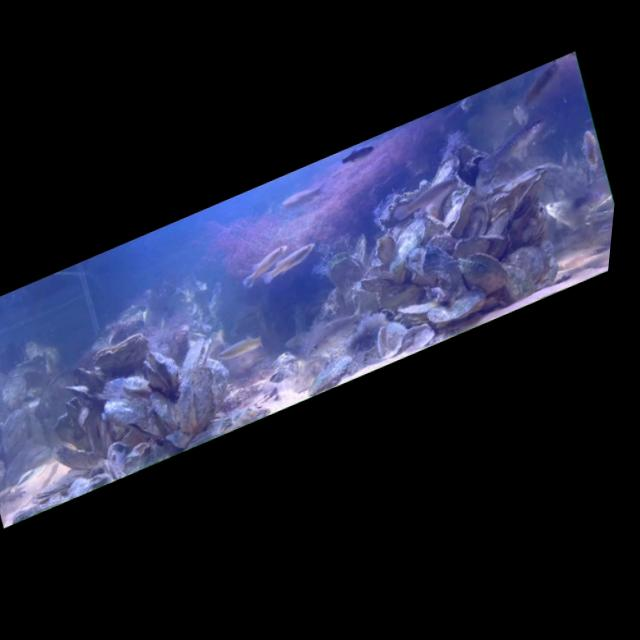Oyster-Closed: (91, 361, 172, 460), (396, 227, 475, 316), (374, 214, 441, 288), (411, 150, 475, 222), (421, 281, 492, 334), (183, 360, 230, 429), (498, 237, 554, 294), (434, 182, 486, 243), (162, 376, 208, 438), (29, 462, 94, 505), (144, 382, 188, 442), (395, 285, 455, 328), (494, 251, 541, 305), (374, 277, 428, 317), (408, 198, 452, 245), (61, 374, 100, 413)
Oyster-Indeterminate: (482, 161, 553, 209), (44, 404, 98, 466), (504, 167, 559, 221), (0, 401, 43, 470), (373, 184, 429, 234), (198, 351, 241, 414), (68, 354, 114, 403), (452, 194, 497, 242), (47, 433, 92, 479), (422, 224, 463, 267), (449, 226, 493, 266), (395, 317, 440, 356), (103, 311, 148, 349), (100, 437, 137, 482), (477, 204, 518, 243), (368, 230, 402, 269), (357, 268, 394, 300), (0, 407, 13, 461)
Oyster-Open: (450, 236, 516, 305), (90, 327, 156, 381), (137, 340, 188, 400), (319, 241, 373, 296), (368, 315, 415, 362), (173, 332, 220, 378), (265, 366, 289, 386), (0, 373, 4, 413)
